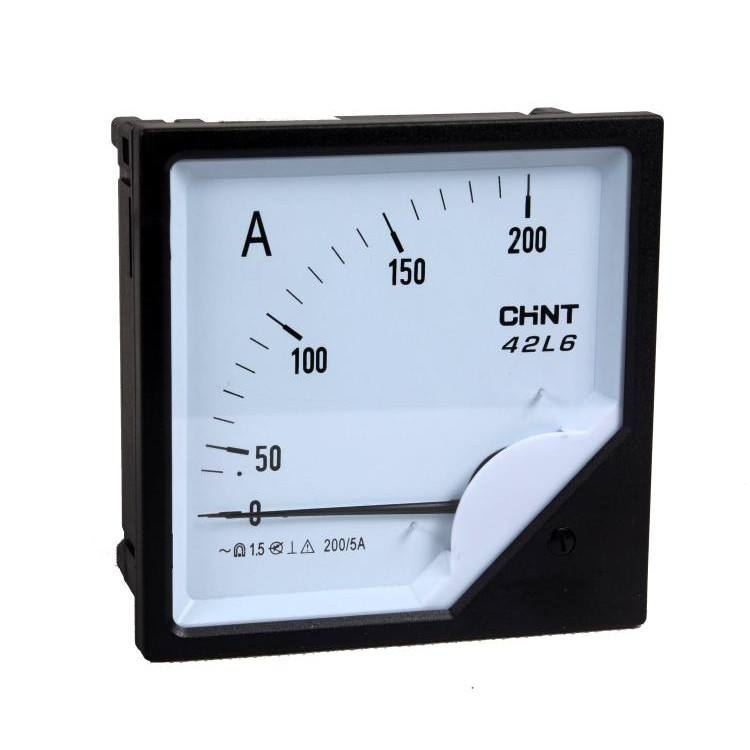pointer: (167, 143, 628, 630)
